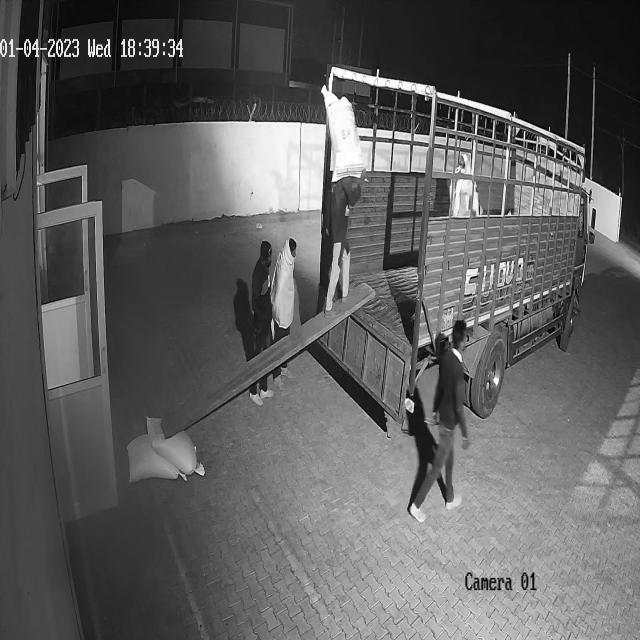sack: (321, 85, 363, 182), (145, 414, 204, 476), (126, 433, 186, 483)
